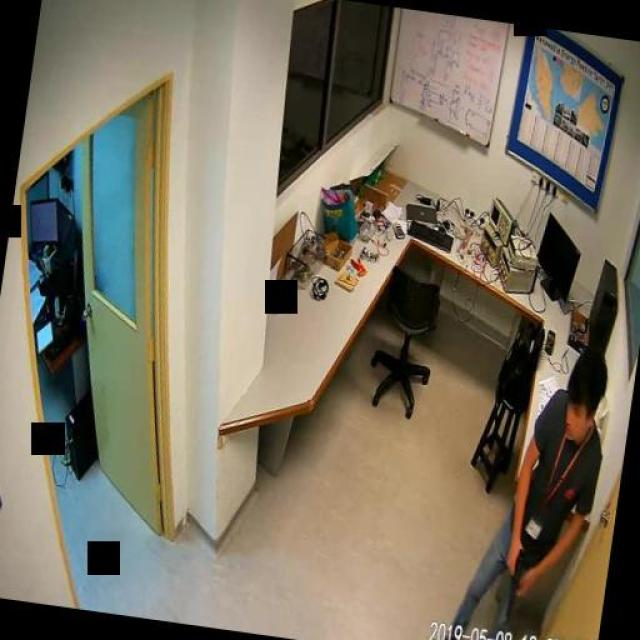gun: (495, 542, 530, 622)
